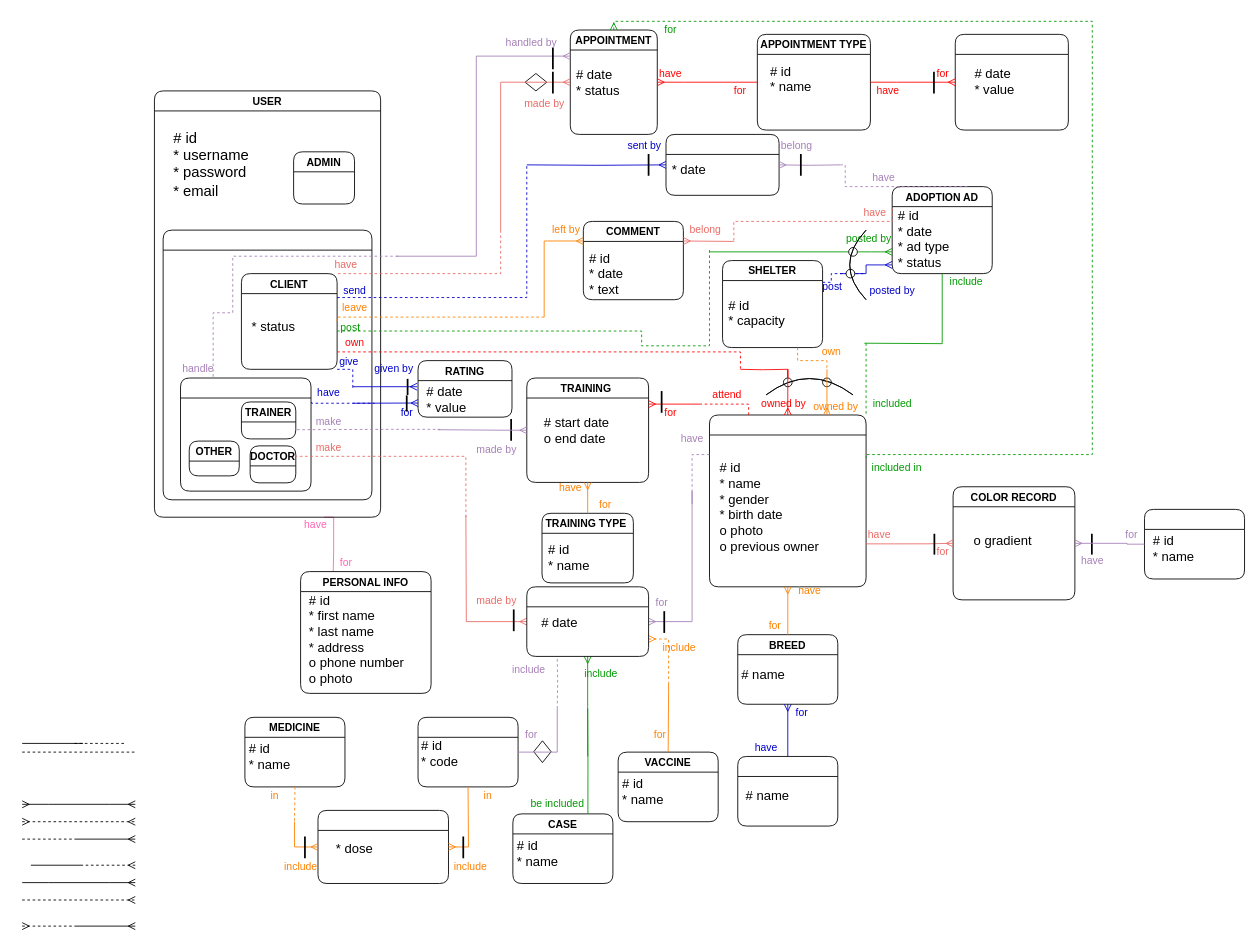
Image size: 1260x948. Some labels were removed from this diagram. Each missing label, with the box of its shape:
ADOPTION REQUEST: (665, 134, 779, 195)
COLOR: (1144, 509, 1245, 579)
FEE HISTORY: (954, 33, 1068, 130)
MEDICINE PRESCRIPTION: (317, 810, 448, 883)
NORMAL USER: (162, 229, 372, 500)
PET: (709, 414, 866, 587)
PRESCRITION: (417, 716, 518, 787)
STAFF MEMBER: (180, 377, 311, 491)
TREATMENT: (526, 586, 649, 656)
TYPE: (737, 756, 838, 826)
